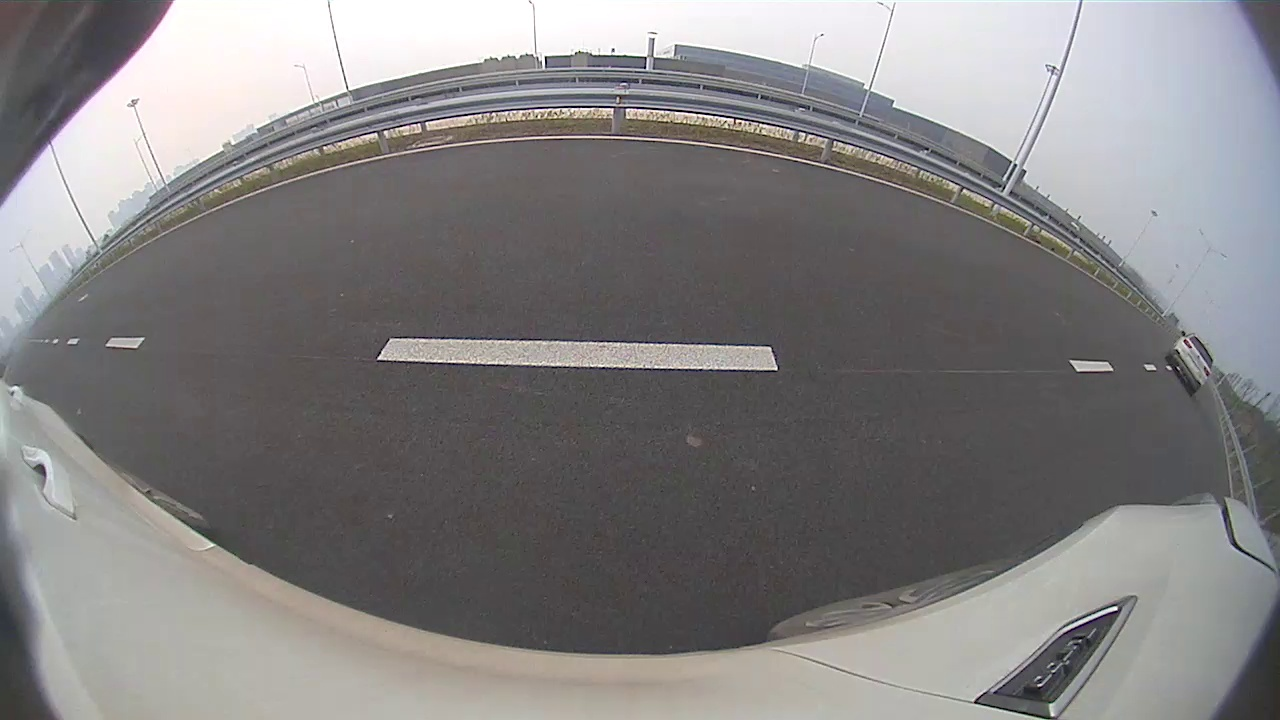car: (621, 155, 659, 187)
